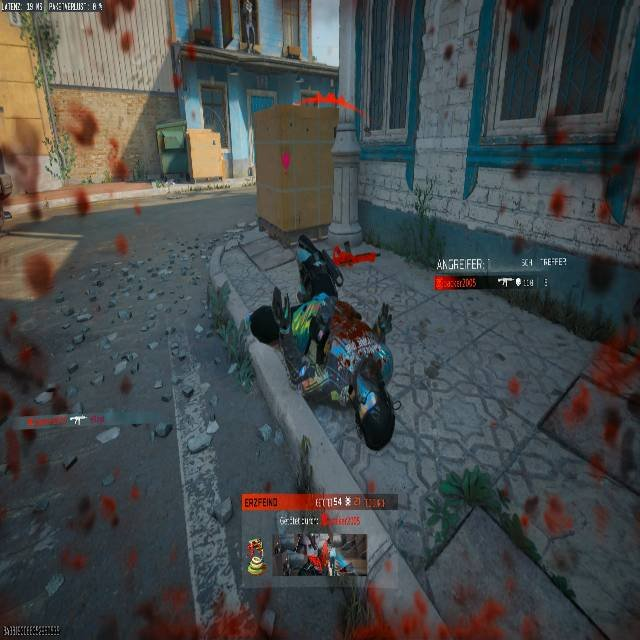player: (247, 165, 254, 178)
